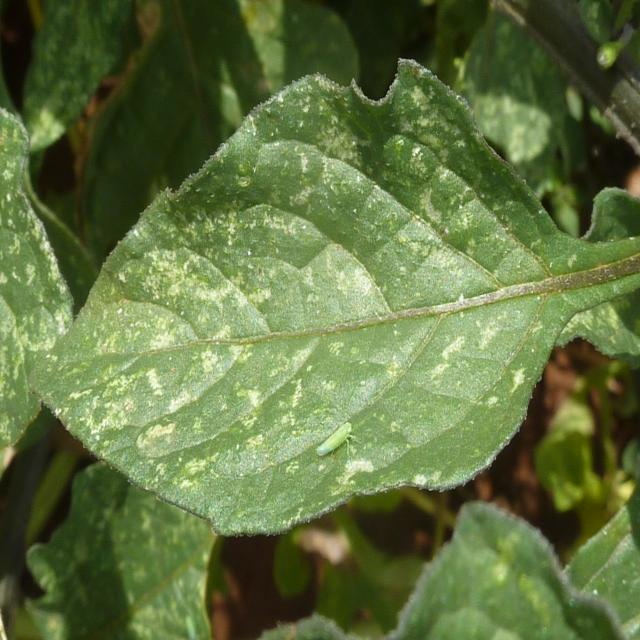Yechan: (316, 418, 361, 460)
